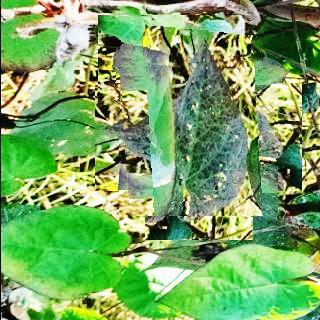leaf spot: (118, 58, 277, 216), (97, 15, 262, 115)
